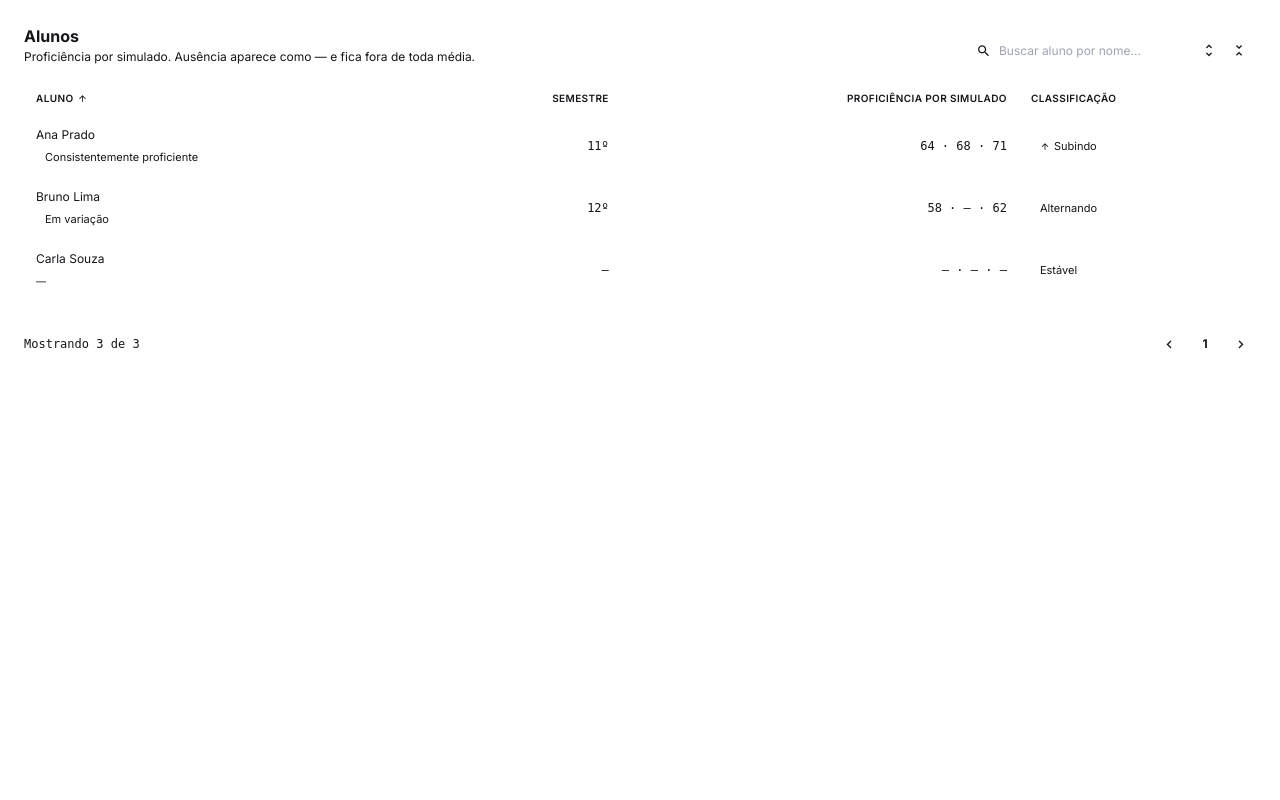
it: TabelaAlunos › o nome abre o DrawerAluno com a visão detalhada E marca a linha (§10.8)
The image size is (1280, 800).
Click the button "Ana Prado" at coordinates (66, 135), box [36,126,95,144]
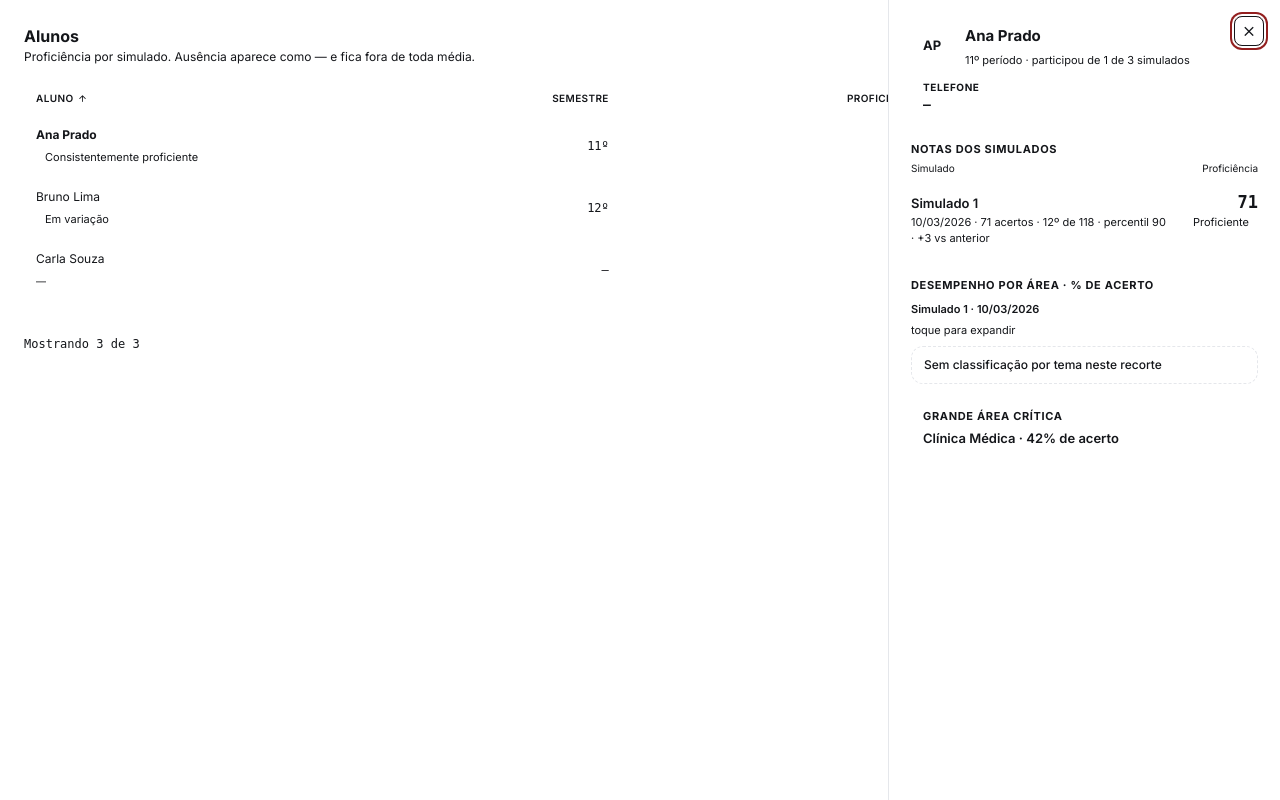
Expected: the dialog shows "Proficiência", [1202,162,1258,174]
Expected: the dialog shows "71", [1238,192,1258,212]
Expected: the dialog shows "12º de 118", [911,214,1166,245]
